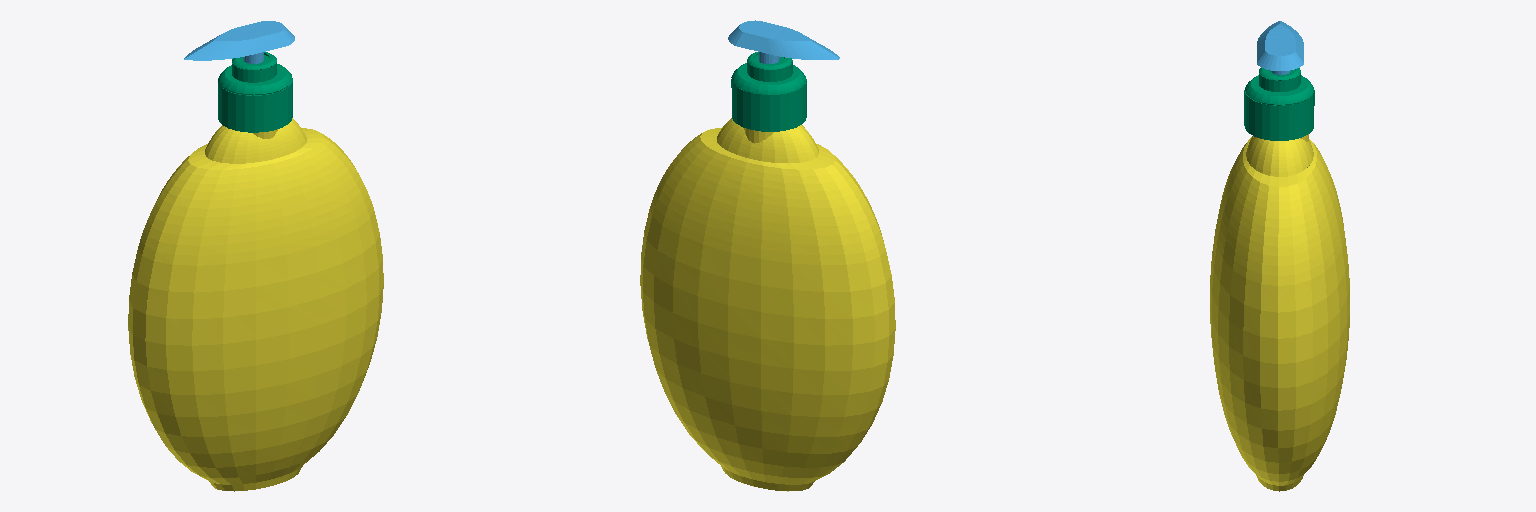
The robot description file, URDF, robot "partnet_eb03ba3f-2b3f-44c3-894d-2ff54920ba8b":
<?xml version="1.0" ?>
<robot name="partnet_eb03ba3f-2b3f-44c3-894d-2ff54920ba8b">
	<link name="base"/>
	<link name="link_0">
		<visual name="pressing_lid-1">
			<origin xyz="0.004231701631850748 0 -0.003250010010664317"/>
			<geometry>
				<mesh filename="textured_objs/original_4.obj"/>
			</geometry>
		</visual>
		<visual name="pressing_lid-1">
			<origin xyz="0.004231701631850748 0 -0.003250010010664317"/>
			<geometry>
				<mesh filename="textured_objs/original_3.obj"/>
			</geometry>
		</visual>
		<visual name="pressing_lid-1">
			<origin xyz="0.004231701631850748 0 -0.003250010010664317"/>
			<geometry>
				<mesh filename="textured_objs/original_1.obj"/>
			</geometry>
		</visual>
		<collision>
			<origin xyz="0.004231701631850748 0 -0.003250010010664317"/>
			<geometry>
				<mesh filename="textured_objs/original_4.obj"/>
			</geometry>
		</collision>
		<collision>
			<origin xyz="0.004231701631850748 0 -0.003250010010664317"/>
			<geometry>
				<mesh filename="textured_objs/original_3.obj"/>
			</geometry>
		</collision>
		<collision>
			<origin xyz="0.004231701631850748 0 -0.003250010010664317"/>
			<geometry>
				<mesh filename="textured_objs/original_1.obj"/>
			</geometry>
		</collision>
	</link>
	<joint name="joint_0" type="continuous">
		<origin xyz="0.0 0 0.0"/>
		<axis xyz="0 1 0"/>
		<child link="link_0"/>
		<parent link="link_0_helper"/>
	</joint>
	<link name="link_1">
		<visual name="head-3">
			<origin xyz="0.0012767166332510634 -1.2184313426589853e-05 0.003067265562766778"/>
			<geometry>
				<mesh filename="textured_objs/original_2.obj"/>
			</geometry>
		</visual>
		<visual name="head-3">
			<origin xyz="0.0012767166332510634 -1.2184313426589853e-05 0.003067265562766778"/>
			<geometry>
				<mesh filename="textured_objs/original_5.obj"/>
			</geometry>
		</visual>
		<visual name="head-3">
			<origin xyz="0.0012767166332510634 -1.2184313426589853e-05 0.003067265562766778"/>
			<geometry>
				<mesh filename="textured_objs/original_6.obj"/>
			</geometry>
		</visual>
		<collision>
			<origin xyz="0.0012767166332510634 -1.2184313426589853e-05 0.003067265562766778"/>
			<geometry>
				<mesh filename="textured_objs/original_2.obj"/>
			</geometry>
		</collision>
		<collision>
			<origin xyz="0.0012767166332510634 -1.2184313426589853e-05 0.003067265562766778"/>
			<geometry>
				<mesh filename="textured_objs/original_5.obj"/>
			</geometry>
		</collision>
		<collision>
			<origin xyz="0.0012767166332510634 -1.2184313426589853e-05 0.003067265562766778"/>
			<geometry>
				<mesh filename="textured_objs/original_6.obj"/>
			</geometry>
		</collision>
	</link>
	<joint name="joint_1" type="continuous">
		<origin xyz="0.0 0.0 0.0"/>
		<axis xyz="0.006125362796339866 0.9999802277683453 0.0014226745875050735"/>
		<child link="link_1"/>
		<parent link="link_1_helper"/>
	</joint>
	<link name="link_2">
		<visual name="base_body-4">
			<origin xyz="0 0 0"/>
			<geometry>
				<mesh filename="textured_objs/original_8.obj"/>
			</geometry>
		</visual>
		<visual name="base_body-4">
			<origin xyz="0 0 0"/>
			<geometry>
				<mesh filename="textured_objs/original_9.obj"/>
			</geometry>
		</visual>
		<visual name="base_body-4">
			<origin xyz="0 0 0"/>
			<geometry>
				<mesh filename="textured_objs/original_11.obj"/>
			</geometry>
		</visual>
		<visual name="base_body-4">
			<origin xyz="0 0 0"/>
			<geometry>
				<mesh filename="textured_objs/original_12.obj"/>
			</geometry>
		</visual>
		<visual name="base_body-4">
			<origin xyz="0 0 0"/>
			<geometry>
				<mesh filename="textured_objs/original_10.obj"/>
			</geometry>
		</visual>
		<collision>
			<origin xyz="0 0 0"/>
			<geometry>
				<mesh filename="textured_objs/original_8.obj"/>
			</geometry>
		</collision>
		<collision>
			<origin xyz="0 0 0"/>
			<geometry>
				<mesh filename="textured_objs/original_9.obj"/>
			</geometry>
		</collision>
		<collision>
			<origin xyz="0 0 0"/>
			<geometry>
				<mesh filename="textured_objs/original_11.obj"/>
			</geometry>
		</collision>
		<collision>
			<origin xyz="0 0 0"/>
			<geometry>
				<mesh filename="textured_objs/original_12.obj"/>
			</geometry>
		</collision>
		<collision>
			<origin xyz="0 0 0"/>
			<geometry>
				<mesh filename="textured_objs/original_10.obj"/>
			</geometry>
		</collision>
	</link>
	<joint name="joint_2" type="fixed">
		<origin rpy="1.570796326794897 0 -1.570796326794897" xyz="0 0 0"/>
		<child link="link_2"/>
		<parent link="base"/>
	</joint>
	<link name="link_0_helper">
		<inertial>
			<origin xyz="0 0 0"/>
			<mass value="1e-6"/>
			<inertia ixx="1e-10" ixy="0" ixz="0" iyy="1e-10" iyz="0" izz="1e-10"/>
		</inertial>
	</link>
	<joint name="joint_3" type="prismatic">
		<origin xyz="-0.0029549849985996846 -1.2184313426589853e-05 0.006317275573431095"/>
		<axis xyz="0 -1 0"/>
		<child link="link_0_helper"/>
		<parent link="link_1"/>
		<limit lower="0" upper="0.06"/>
	</joint>
	<link name="link_1_helper">
		<inertial>
			<origin xyz="0 0 0"/>
			<mass value="1e-6"/>
			<inertia ixx="1e-10" ixy="0" ixz="0" iyy="1e-10" iyz="0" izz="1e-10"/>
		</inertial>
	</link>
	<joint name="joint_4" type="prismatic">
		<origin xyz="-0.0012767166332510634 1.2184313426589853e-05 -0.003067265562766778"/>
		<axis xyz="0.006125362796339866 0.9999802277683453 0.0014226745875050735"/>
		<child link="link_1_helper"/>
		<parent link="link_2"/>
		<limit lower="0" upper="0.01200000000000001"/>
	</joint>
</robot>

--- Render facts (derived) ---
Views: 3 orthographic renders of the robot side by side, from view 1: azimuth 30°, elevation 25°; view 2: azimuth 150°, elevation 25°; view 3: azimuth 270°, elevation 25°.
Model partnet_eb03ba3f-2b3f-44c3-894d-2ff54920ba8b with 6 links and 5 joints (2 continuous, 2 prismatic, 1 fixed), rooted at base, posed every joint at zero.
Visible links, largest first — view 1: link_2, link_1, link_0; view 2: link_2, link_1, link_0; view 3: link_2, link_1, link_0.
Boxes of the visible links, <box> form: link_2: <box>128,118,383,491</box>; link_1: <box>218,52,292,132</box>; link_0: <box>184,21,294,63</box>; link_2: <box>640,118,895,491</box>; link_1: <box>731,52,806,131</box>; link_0: <box>728,20,839,63</box>; link_2: <box>1210,134,1349,491</box>; link_1: <box>1244,68,1314,140</box>; link_0: <box>1257,21,1303,74</box>.
Size in the robot's own frame: 1 by 0.5198 by 1.75 metres.
Meshes: 11 distinct files referenced, 11 mesh visuals loaded (11 OBJ).
